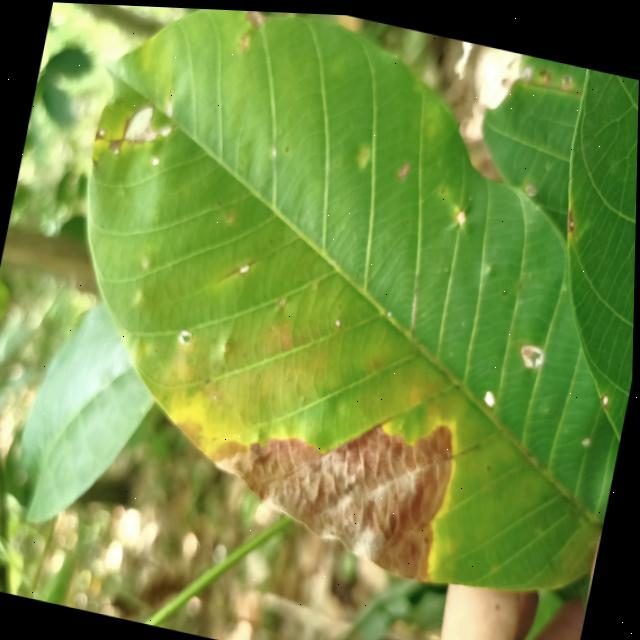Colletotrichum: (599, 386, 610, 404)
Leaf-Blight: (196, 373, 463, 581), (121, 99, 154, 142)
